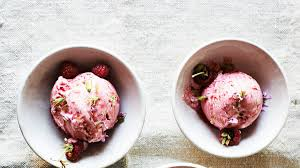ice-cream: (51, 72, 119, 143), (201, 72, 263, 130)
